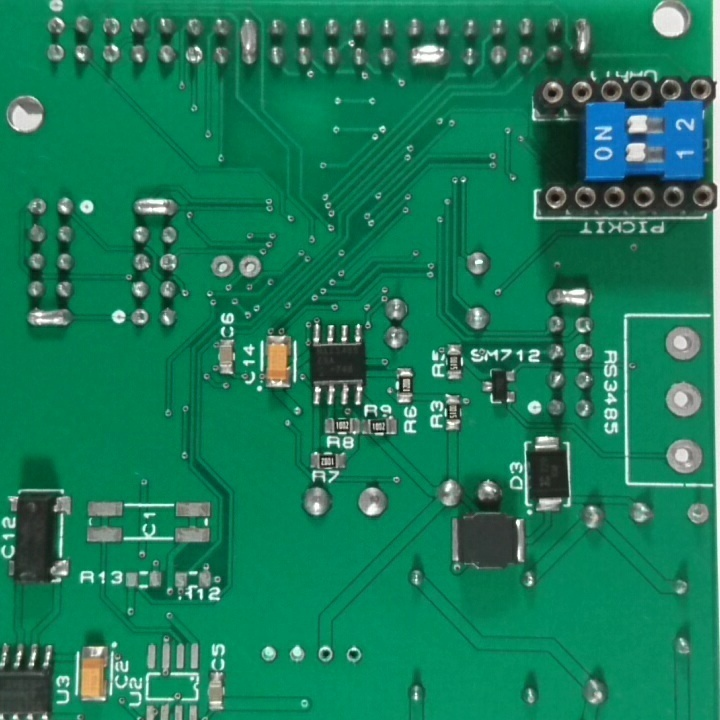F: (661, 323, 704, 366), (664, 379, 703, 423), (666, 438, 706, 476), (686, 497, 713, 528), (207, 252, 234, 280), (236, 254, 262, 282), (572, 341, 597, 366), (158, 251, 183, 275), (24, 196, 50, 218), (285, 641, 307, 666), (127, 307, 151, 329), (100, 17, 125, 38), (343, 643, 364, 668), (44, 15, 66, 38), (184, 43, 205, 67), (258, 643, 279, 663), (315, 645, 335, 665)
P: (542, 280, 598, 313), (21, 303, 77, 334), (130, 192, 180, 224), (236, 11, 259, 72), (408, 43, 452, 72), (572, 12, 594, 65)
